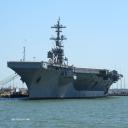Portanaves: (8, 17, 126, 101)
